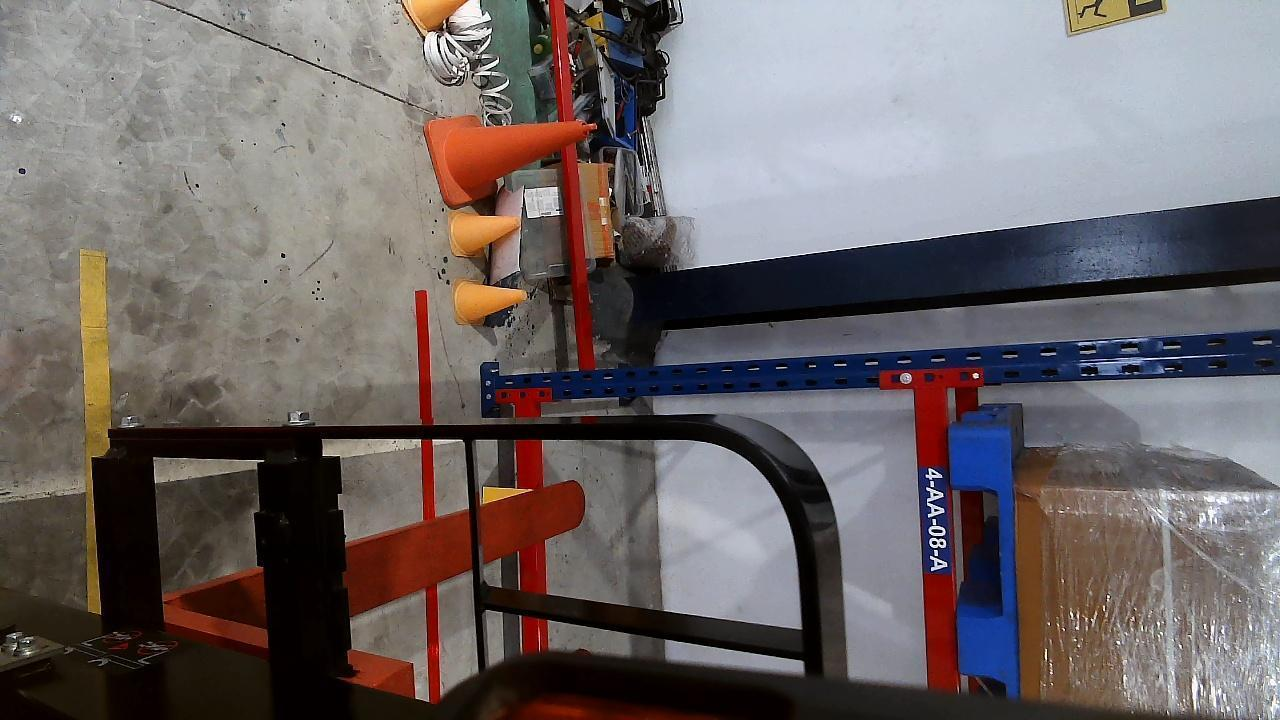red_line: (414, 290, 441, 701)
yellow_line: (79, 249, 111, 452)
